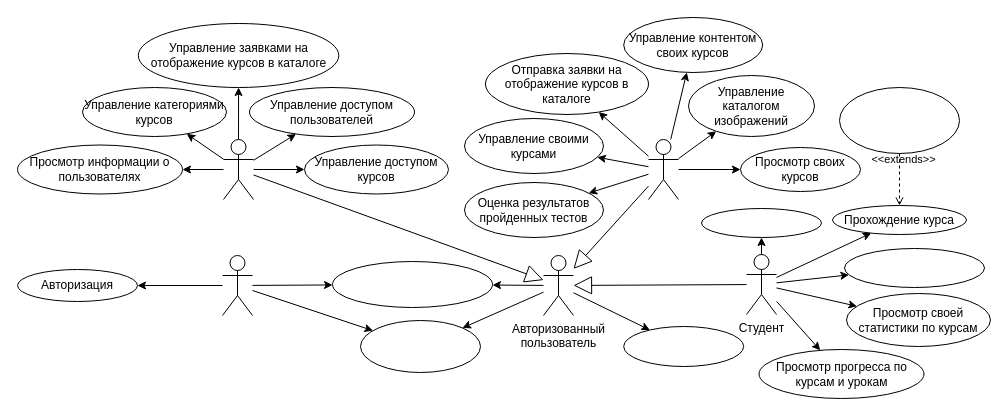
The diagram is 1008 pixels wide and 416 high, and some of its shapes have lost their labels. Each missing label, with the centre of its shape:
Автор: [663,169]
Админ: [238,169]
Запись на курс: [761,223]
Неавторизованный пользователь: [237,285]
Оценка пройденного курса: [914,268]
Просмотр каталога курсов: [420,346]
Просмотр подробной информации о курсе: [412,284]
Прохождение тестирования в рамках курса: [899,120]
Управление профилем: [683,346]
